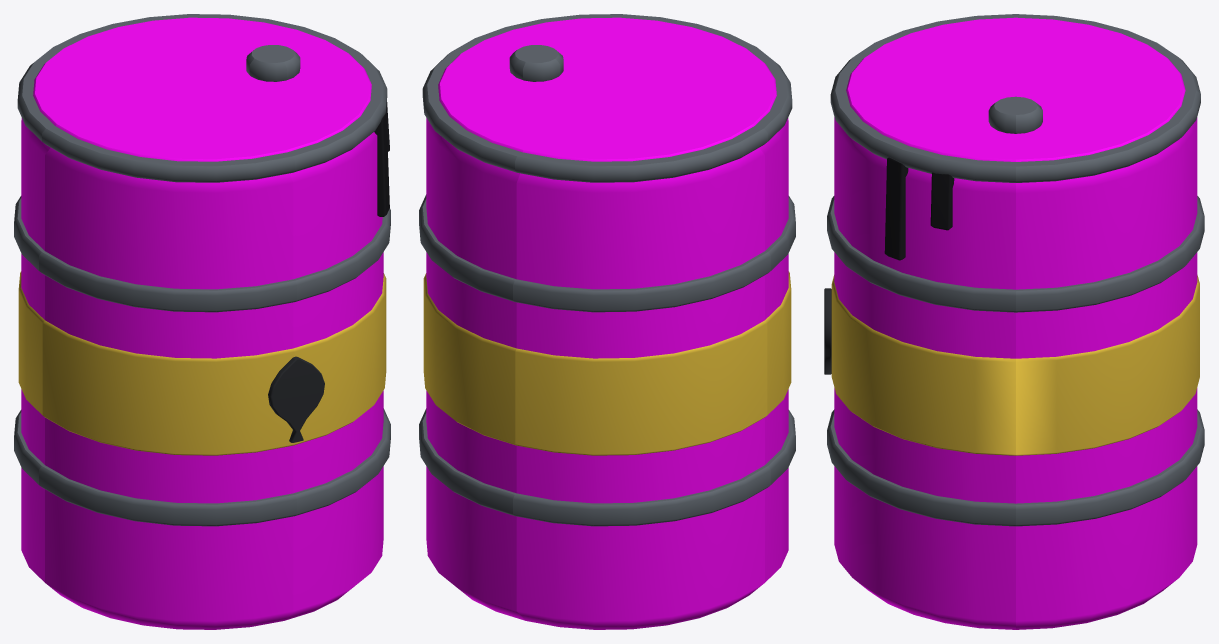
Rendered from objet_baril_petrole.glb.
3 renders of one model, left to right at view 1: azimuth 30°, elevation 25°; view 2: azimuth 150°, elevation 25°; view 3: azimuth 270°, elevation 25°, orthographic.
Parts seen in each view (by area): view 1: baril_teinte.008, baril_nucleaire_jaune.002, baril_acier_doux_sombre.008, baril_symbole_noir.006, baril_petrole.002; view 2: baril_teinte.008, baril_nucleaire_jaune.002, baril_acier_doux_sombre.008; view 3: baril_teinte.008, baril_nucleaire_jaune.002, baril_acier_doux_sombre.008, baril_petrole.002, baril_symbole_noir.006.
Boxes of the visible parts, bbox=[...] form: baril_teinte.008: bbox=[21, 17, 383, 629]; baril_nucleaire_jaune.002: bbox=[18, 271, 386, 455]; baril_acier_doux_sombre.008: bbox=[14, 14, 390, 526]; baril_symbole_noir.006: bbox=[268, 356, 324, 442]; baril_petrole.002: bbox=[374, 102, 389, 216]; baril_teinte.008: bbox=[426, 17, 788, 629]; baril_nucleaire_jaune.002: bbox=[423, 271, 791, 455]; baril_acier_doux_sombre.008: bbox=[419, 14, 795, 526]; baril_teinte.008: bbox=[834, 17, 1197, 629]; baril_nucleaire_jaune.002: bbox=[831, 275, 1199, 455]; baril_acier_doux_sombre.008: bbox=[827, 14, 1204, 526]; baril_petrole.002: bbox=[884, 157, 954, 260]; baril_symbole_noir.006: bbox=[824, 288, 831, 374].
Size of the model in its own units: 0.208 by 0.2975 by 0.2095.
